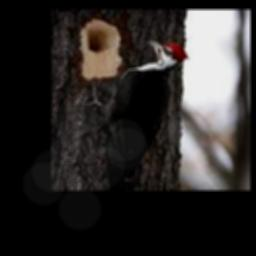Woodpecker: (84, 39, 188, 190)
